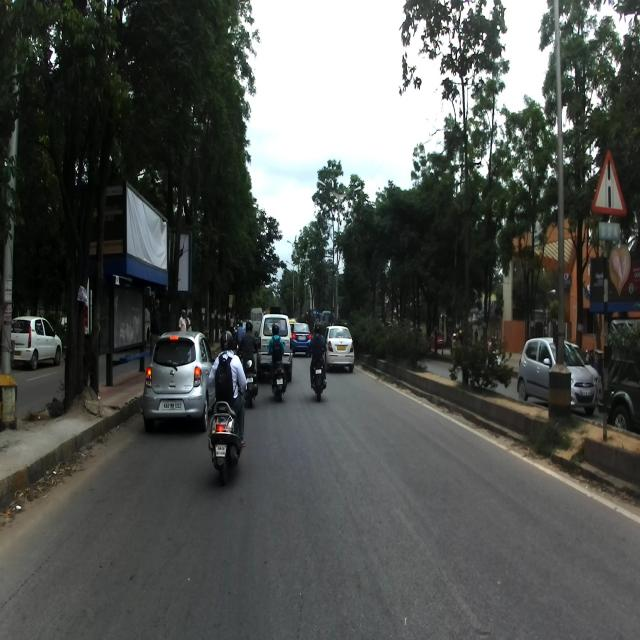Car_Hyundai: (516, 336, 598, 418)
Car_Nissan: (142, 330, 218, 434)
scooter: (208, 358, 252, 485)
